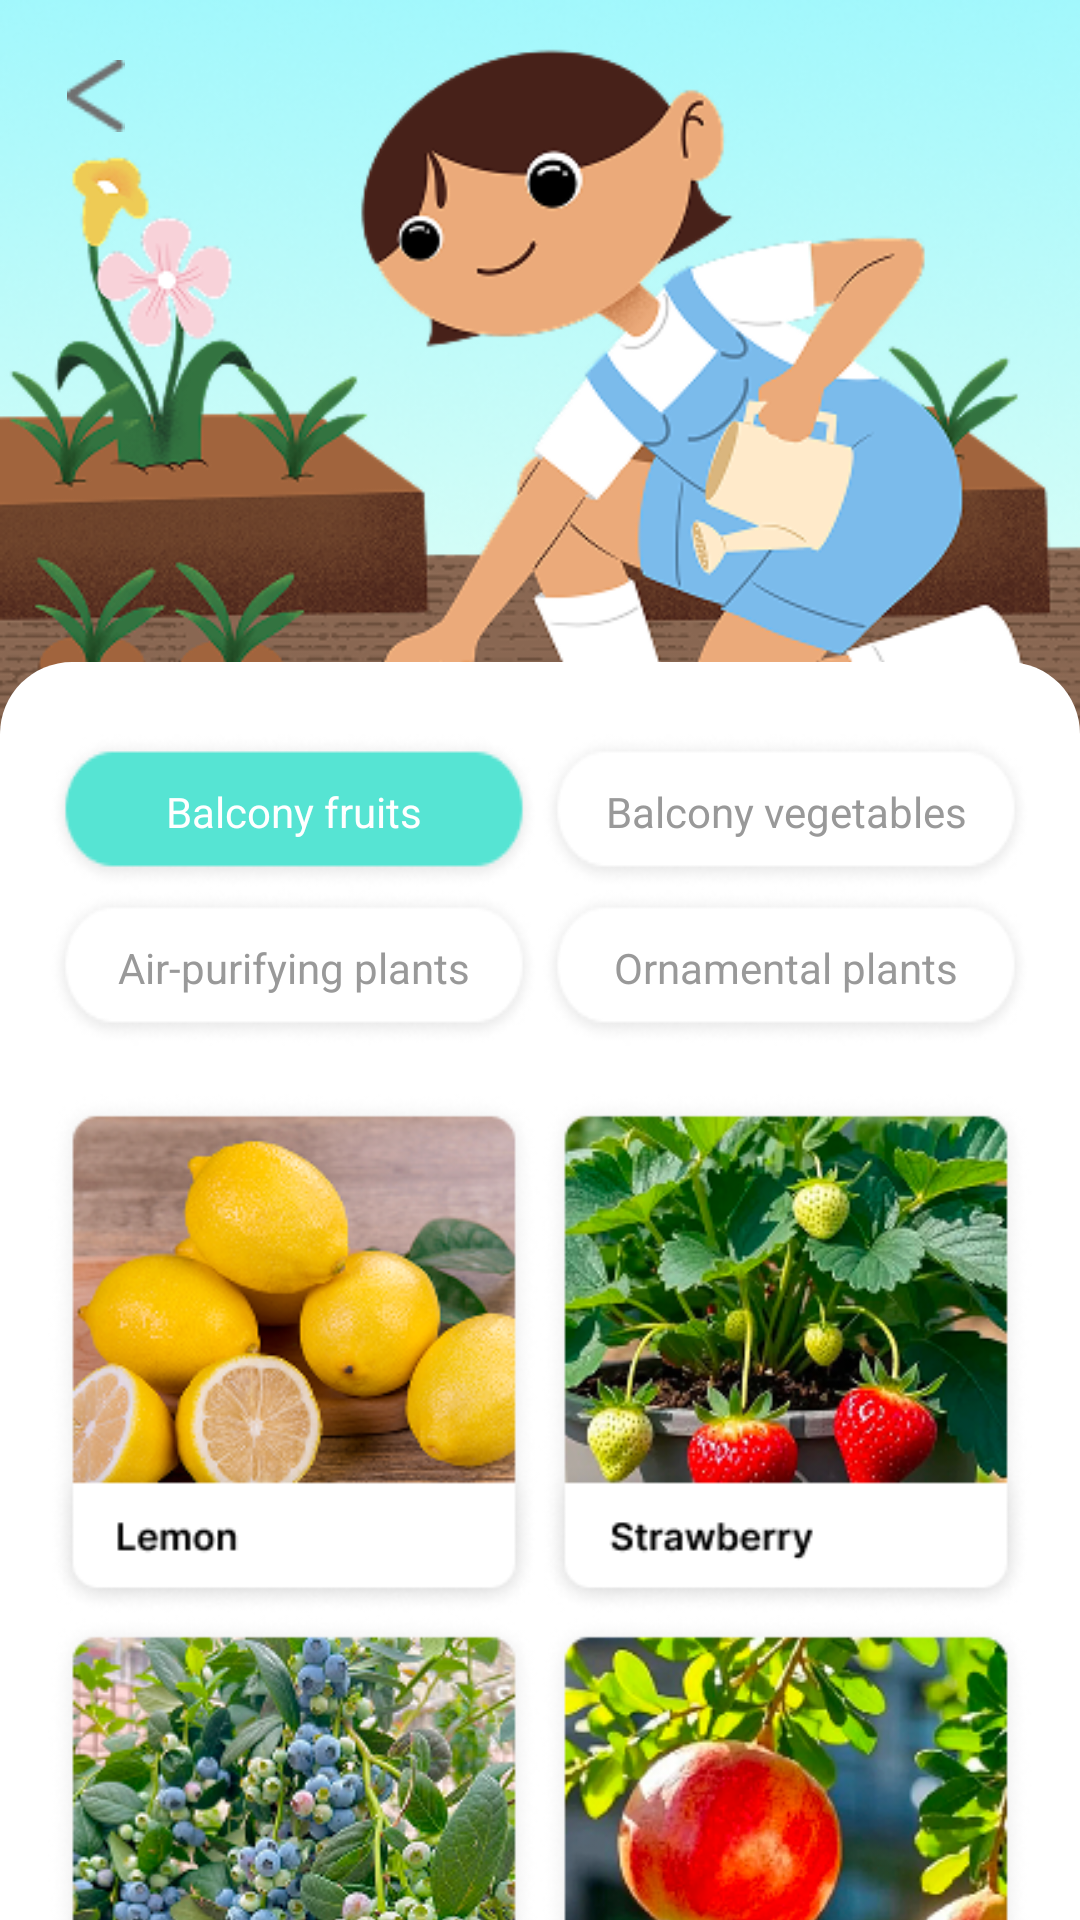

Screen size 1080*1920. Icon name, then its center in pixels as point (x, y):
back: point (96, 96)
